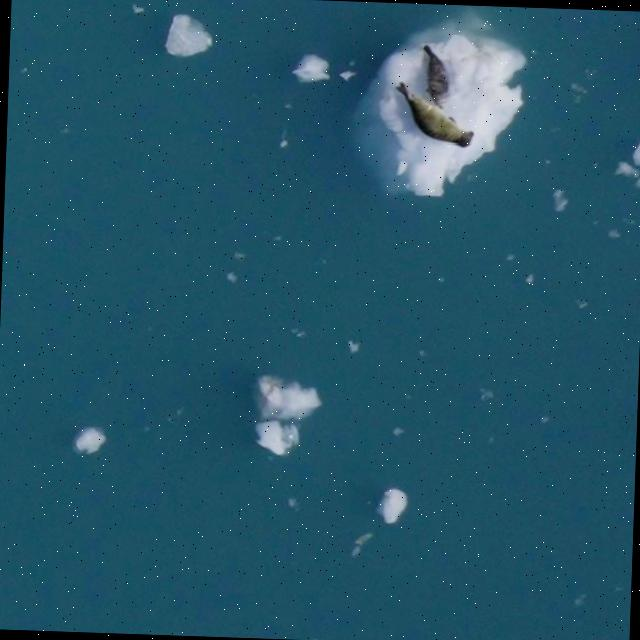seal: (395, 81, 473, 143), (424, 46, 446, 105)
